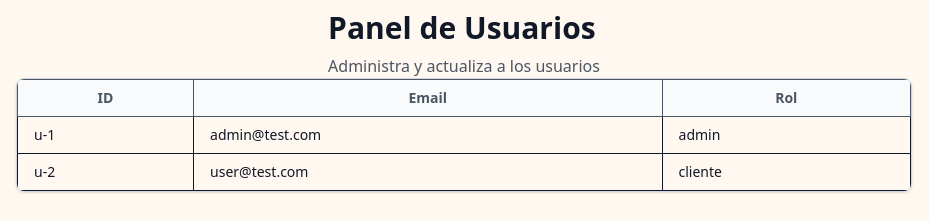
Test: UsuariosTable › edicion inline › doble clic en rol abre select
Double-click the text "admin" at (699, 134), box [678,125,720,144]
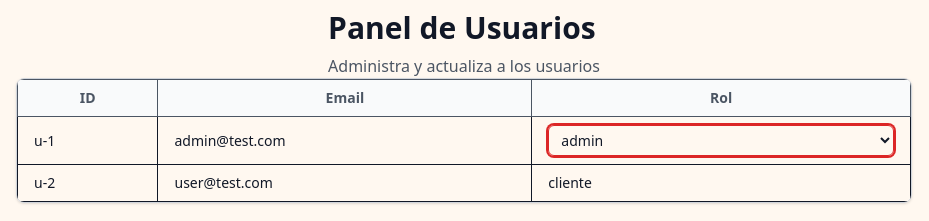
Check: the dropdown is shown, box [548,125,894,156]
